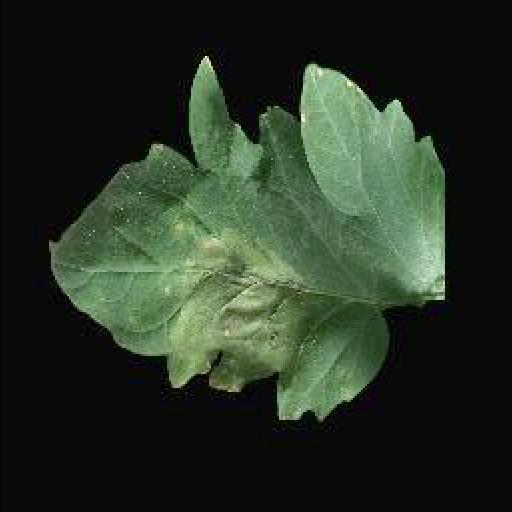disease_tomato: (45, 43, 451, 425)
